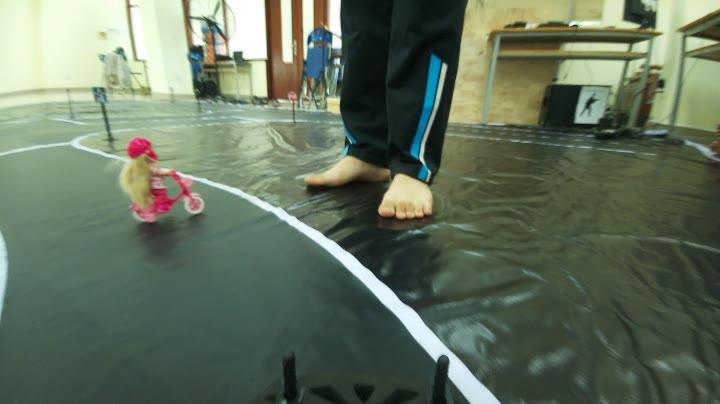pedestrian: (112, 136, 201, 230)
